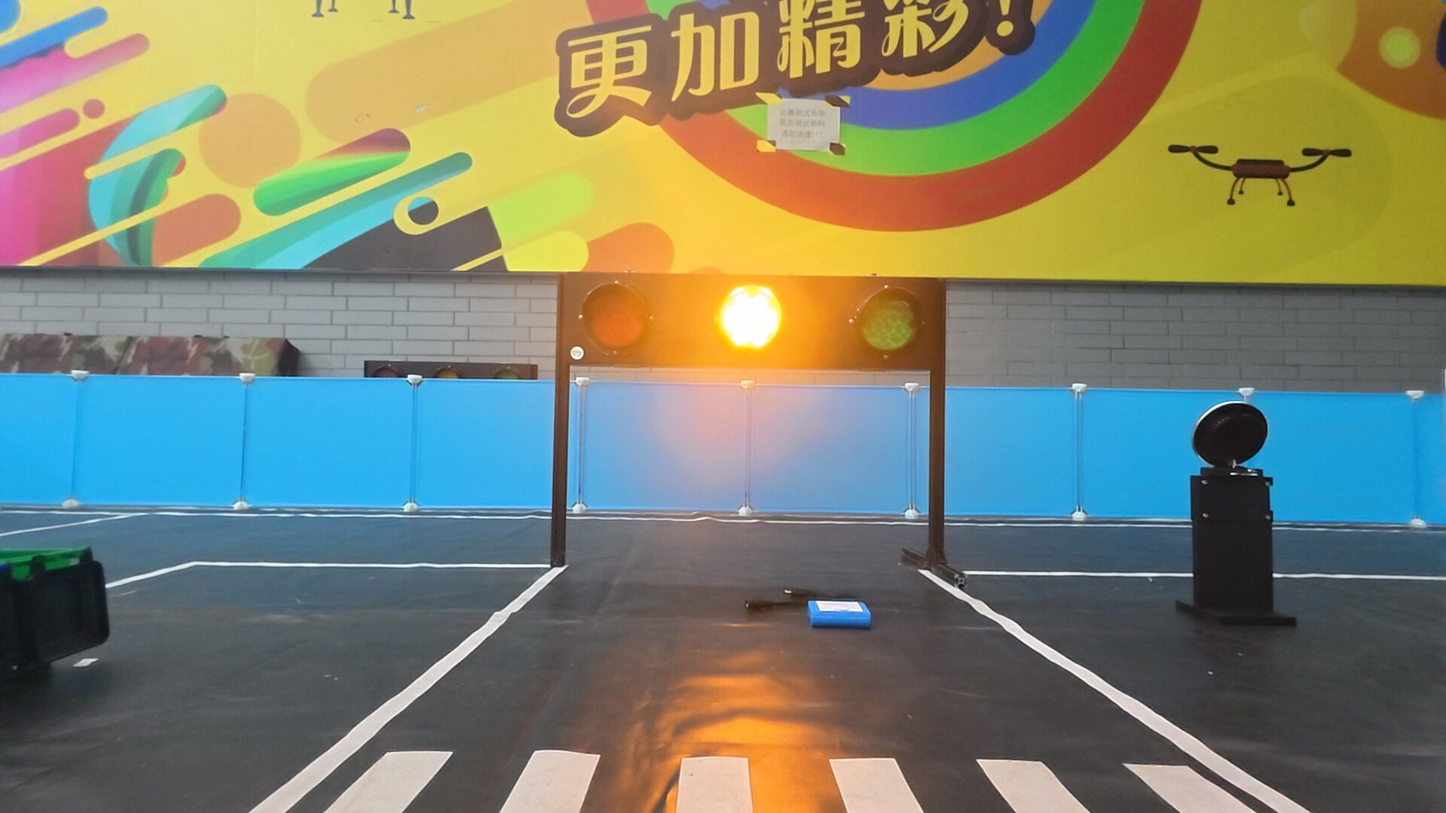stop: (713, 282, 786, 353)
